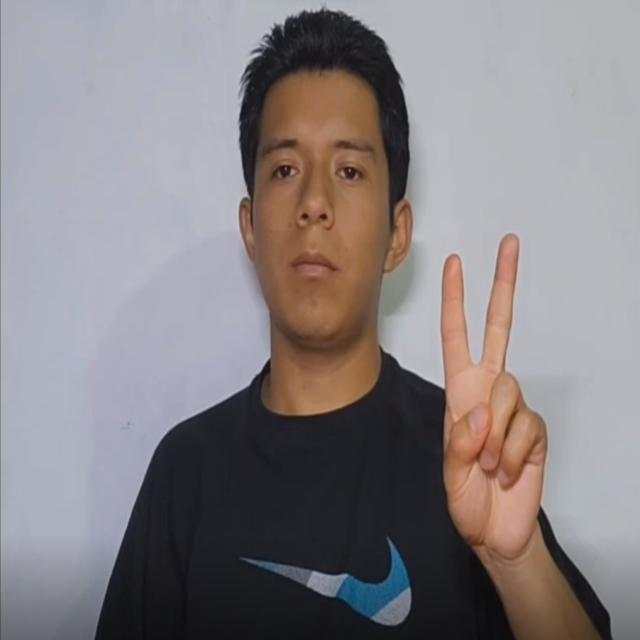V: (414, 211, 558, 560)
